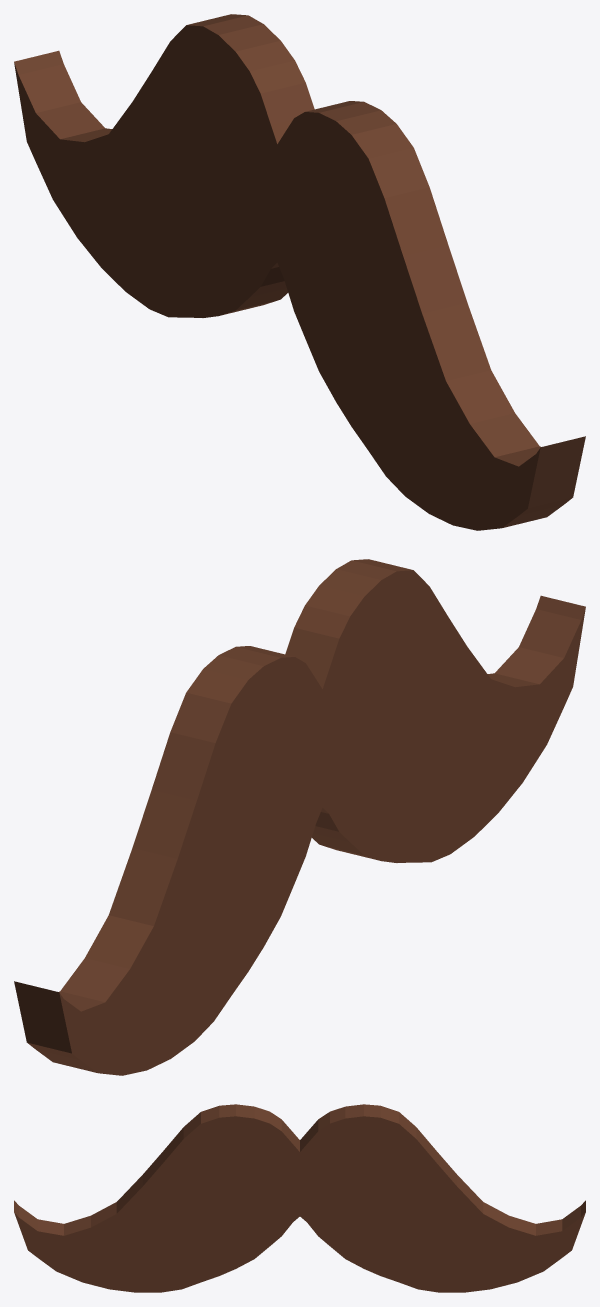
The model's file is Mustashe.fbx.
3 renders of one model, top to bottom at view 1: azimuth 30°, elevation 25°; view 2: azimuth 150°, elevation 25°; view 3: azimuth 270°, elevation 25°, orthographic. The views are drawn at different scales.
Visible parts, largest first — view 1: Cube; view 2: Cube; view 3: Cube.
Boxes of the visible parts, bbox=[...] form: Cube: bbox=[14, 14, 585, 530]; Cube: bbox=[14, 559, 585, 1075]; Cube: bbox=[14, 1104, 585, 1292].
Size of the model in its own units: 14.77 by 101 by 298.
